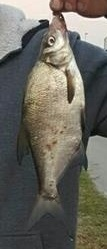Blicca bjoerkna: (20, 20, 87, 229)
